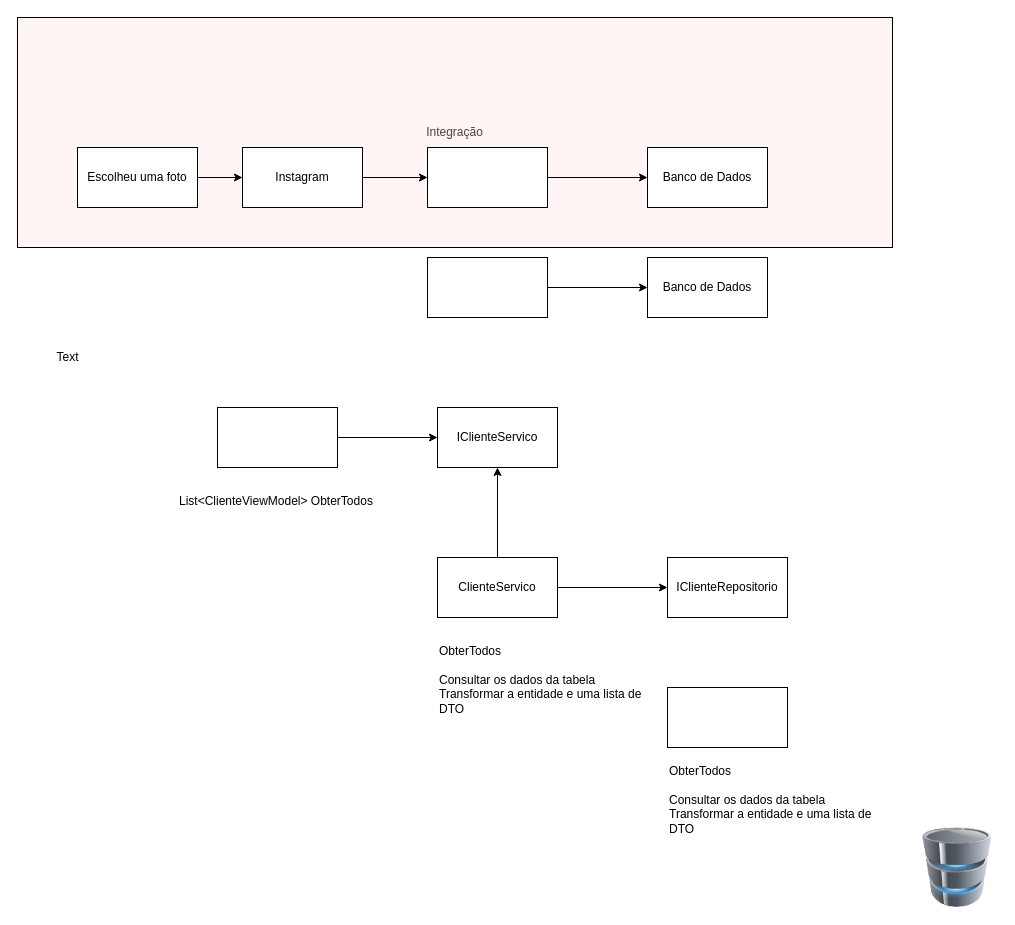
This 1015x925 diagram has some shape labels left out. The shapes that lost their labels are listed below. From the top down, each one's box as (x1, y1, x2, y2) in pixels, then its label:
(426, 146, 548, 208): Post
(426, 256, 548, 318): Facebook
(216, 406, 338, 468): ClienteController
(666, 686, 788, 748): ClienteRepositorio
